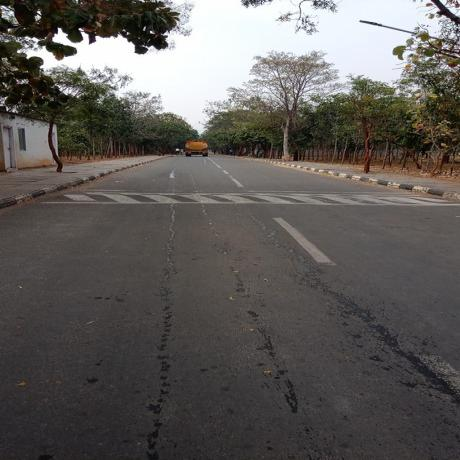Speed Bump: (37, 188, 459, 204)
